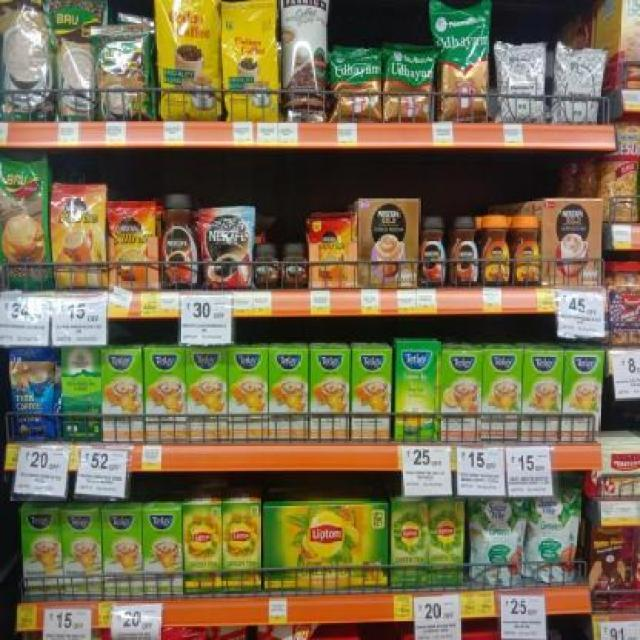Coffee: (52, 185, 106, 287), (200, 210, 252, 288), (107, 202, 155, 284), (161, 197, 199, 288), (478, 217, 510, 286), (512, 216, 541, 288), (450, 219, 479, 285), (419, 220, 447, 286), (253, 243, 279, 289), (283, 243, 307, 285)
